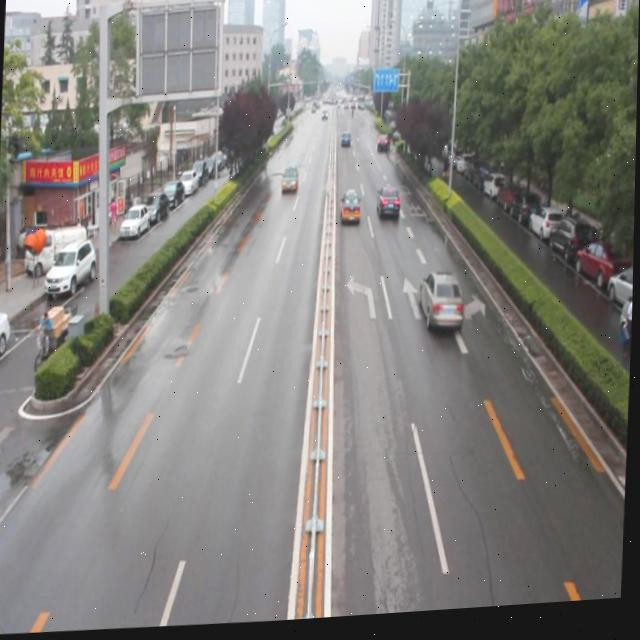car: (419, 273, 466, 338), (375, 188, 401, 224), (339, 191, 362, 228), (281, 170, 298, 198), (376, 136, 390, 158)
